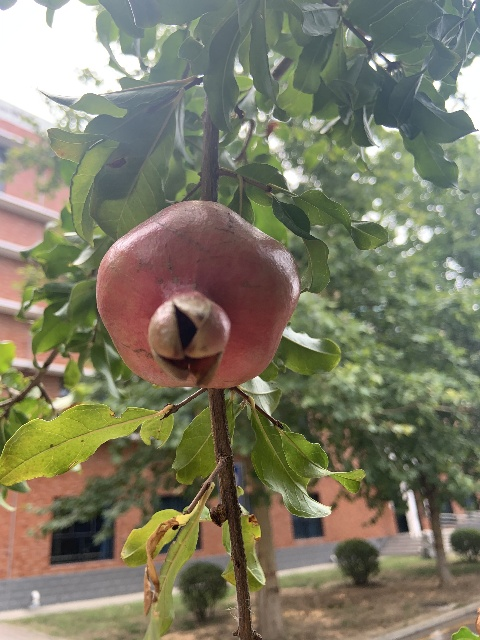ripe: (95, 200, 302, 388)
